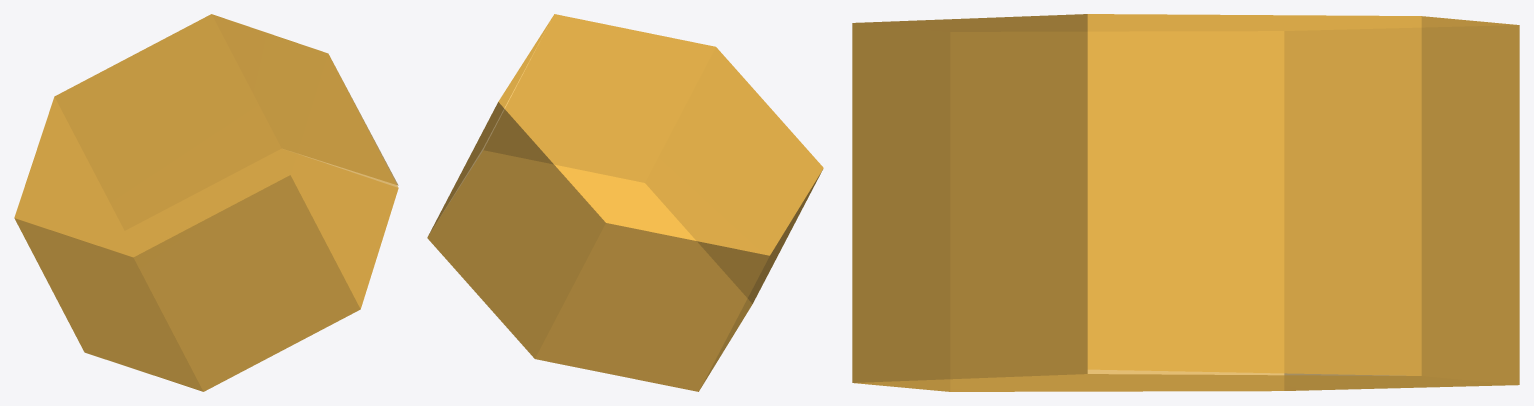
3 views of the same model, side by side, from view 1: azimuth 30°, elevation 25°; view 2: azimuth 150°, elevation 25°; view 3: azimuth 270°, elevation 25° (orthographic). The views are drawn at different scales.
Bounding box in the file's own units: 7.6 × 6.29 × 6.8.
